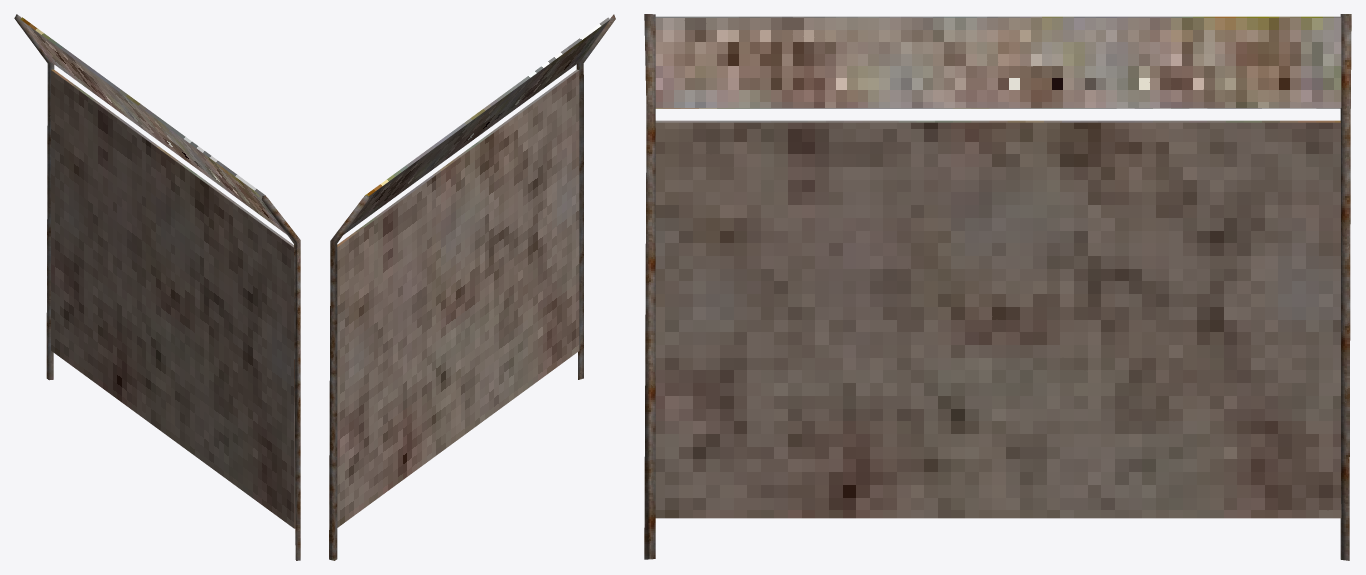
Rendered from chainlink.lod2.glb.
3 views of the same model, side by side, from view 1: azimuth 30°, elevation 25°; view 2: azimuth 150°, elevation 25°; view 3: azimuth 270°, elevation 25° (orthographic). The views are drawn at different scales.
Visible parts, largest first — view 1: Object_4; view 2: Object_4; view 3: Object_4.
Boxes of the visible parts, box(x1,y1,x2,y2) form: Object_4: box(14, 14, 300, 560); Object_4: box(329, 14, 615, 560); Object_4: box(644, 14, 1351, 560).
Bounding box in the file's own units: 0.2615 × 2.39 × 2.93.
Materials: 1 (1 with a texture image).
